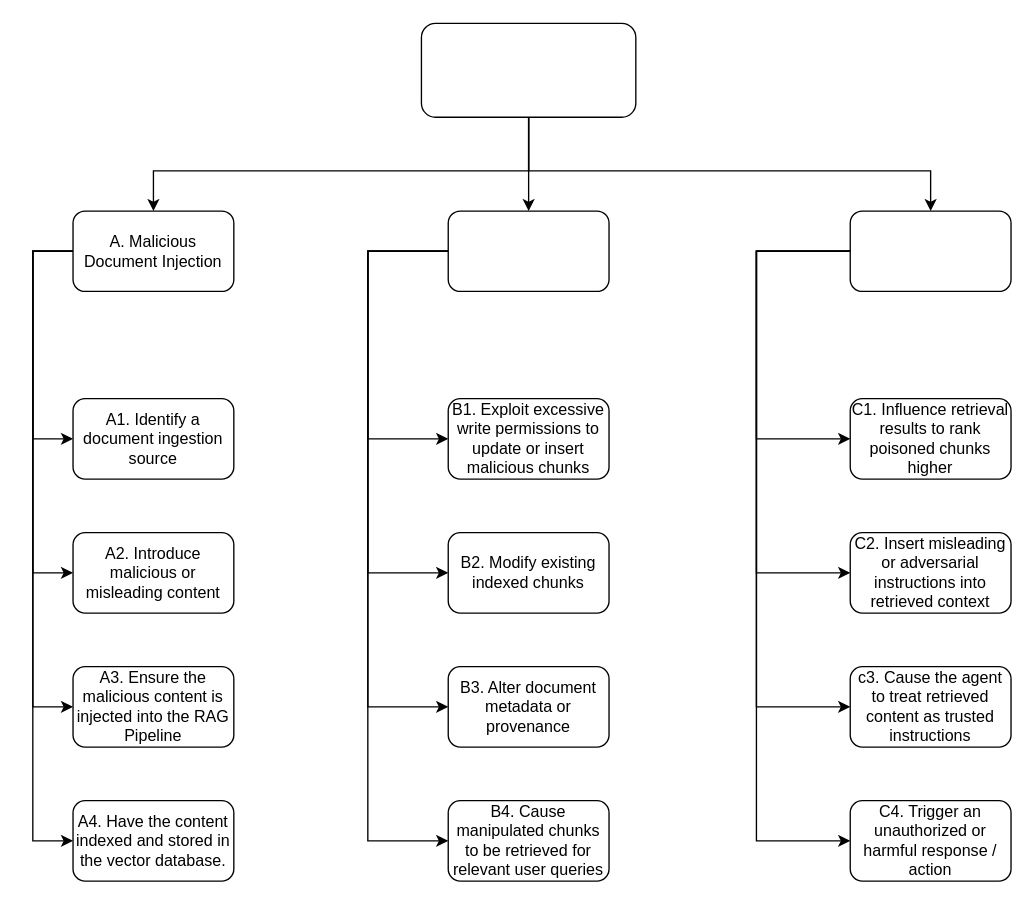
This 1034x905 diagram has some shape labels left out. The shapes that lost their labels are listed below. From the top down, each one's centre as x and y in pixels, then its label:
the point at 528,69: Manipulate AI Agent Behaviour Through RAG Poisoning
the point at 528,250: B. Vector Database Manipulation
the point at 930,250: C. Retrieval Agent Manipulation
